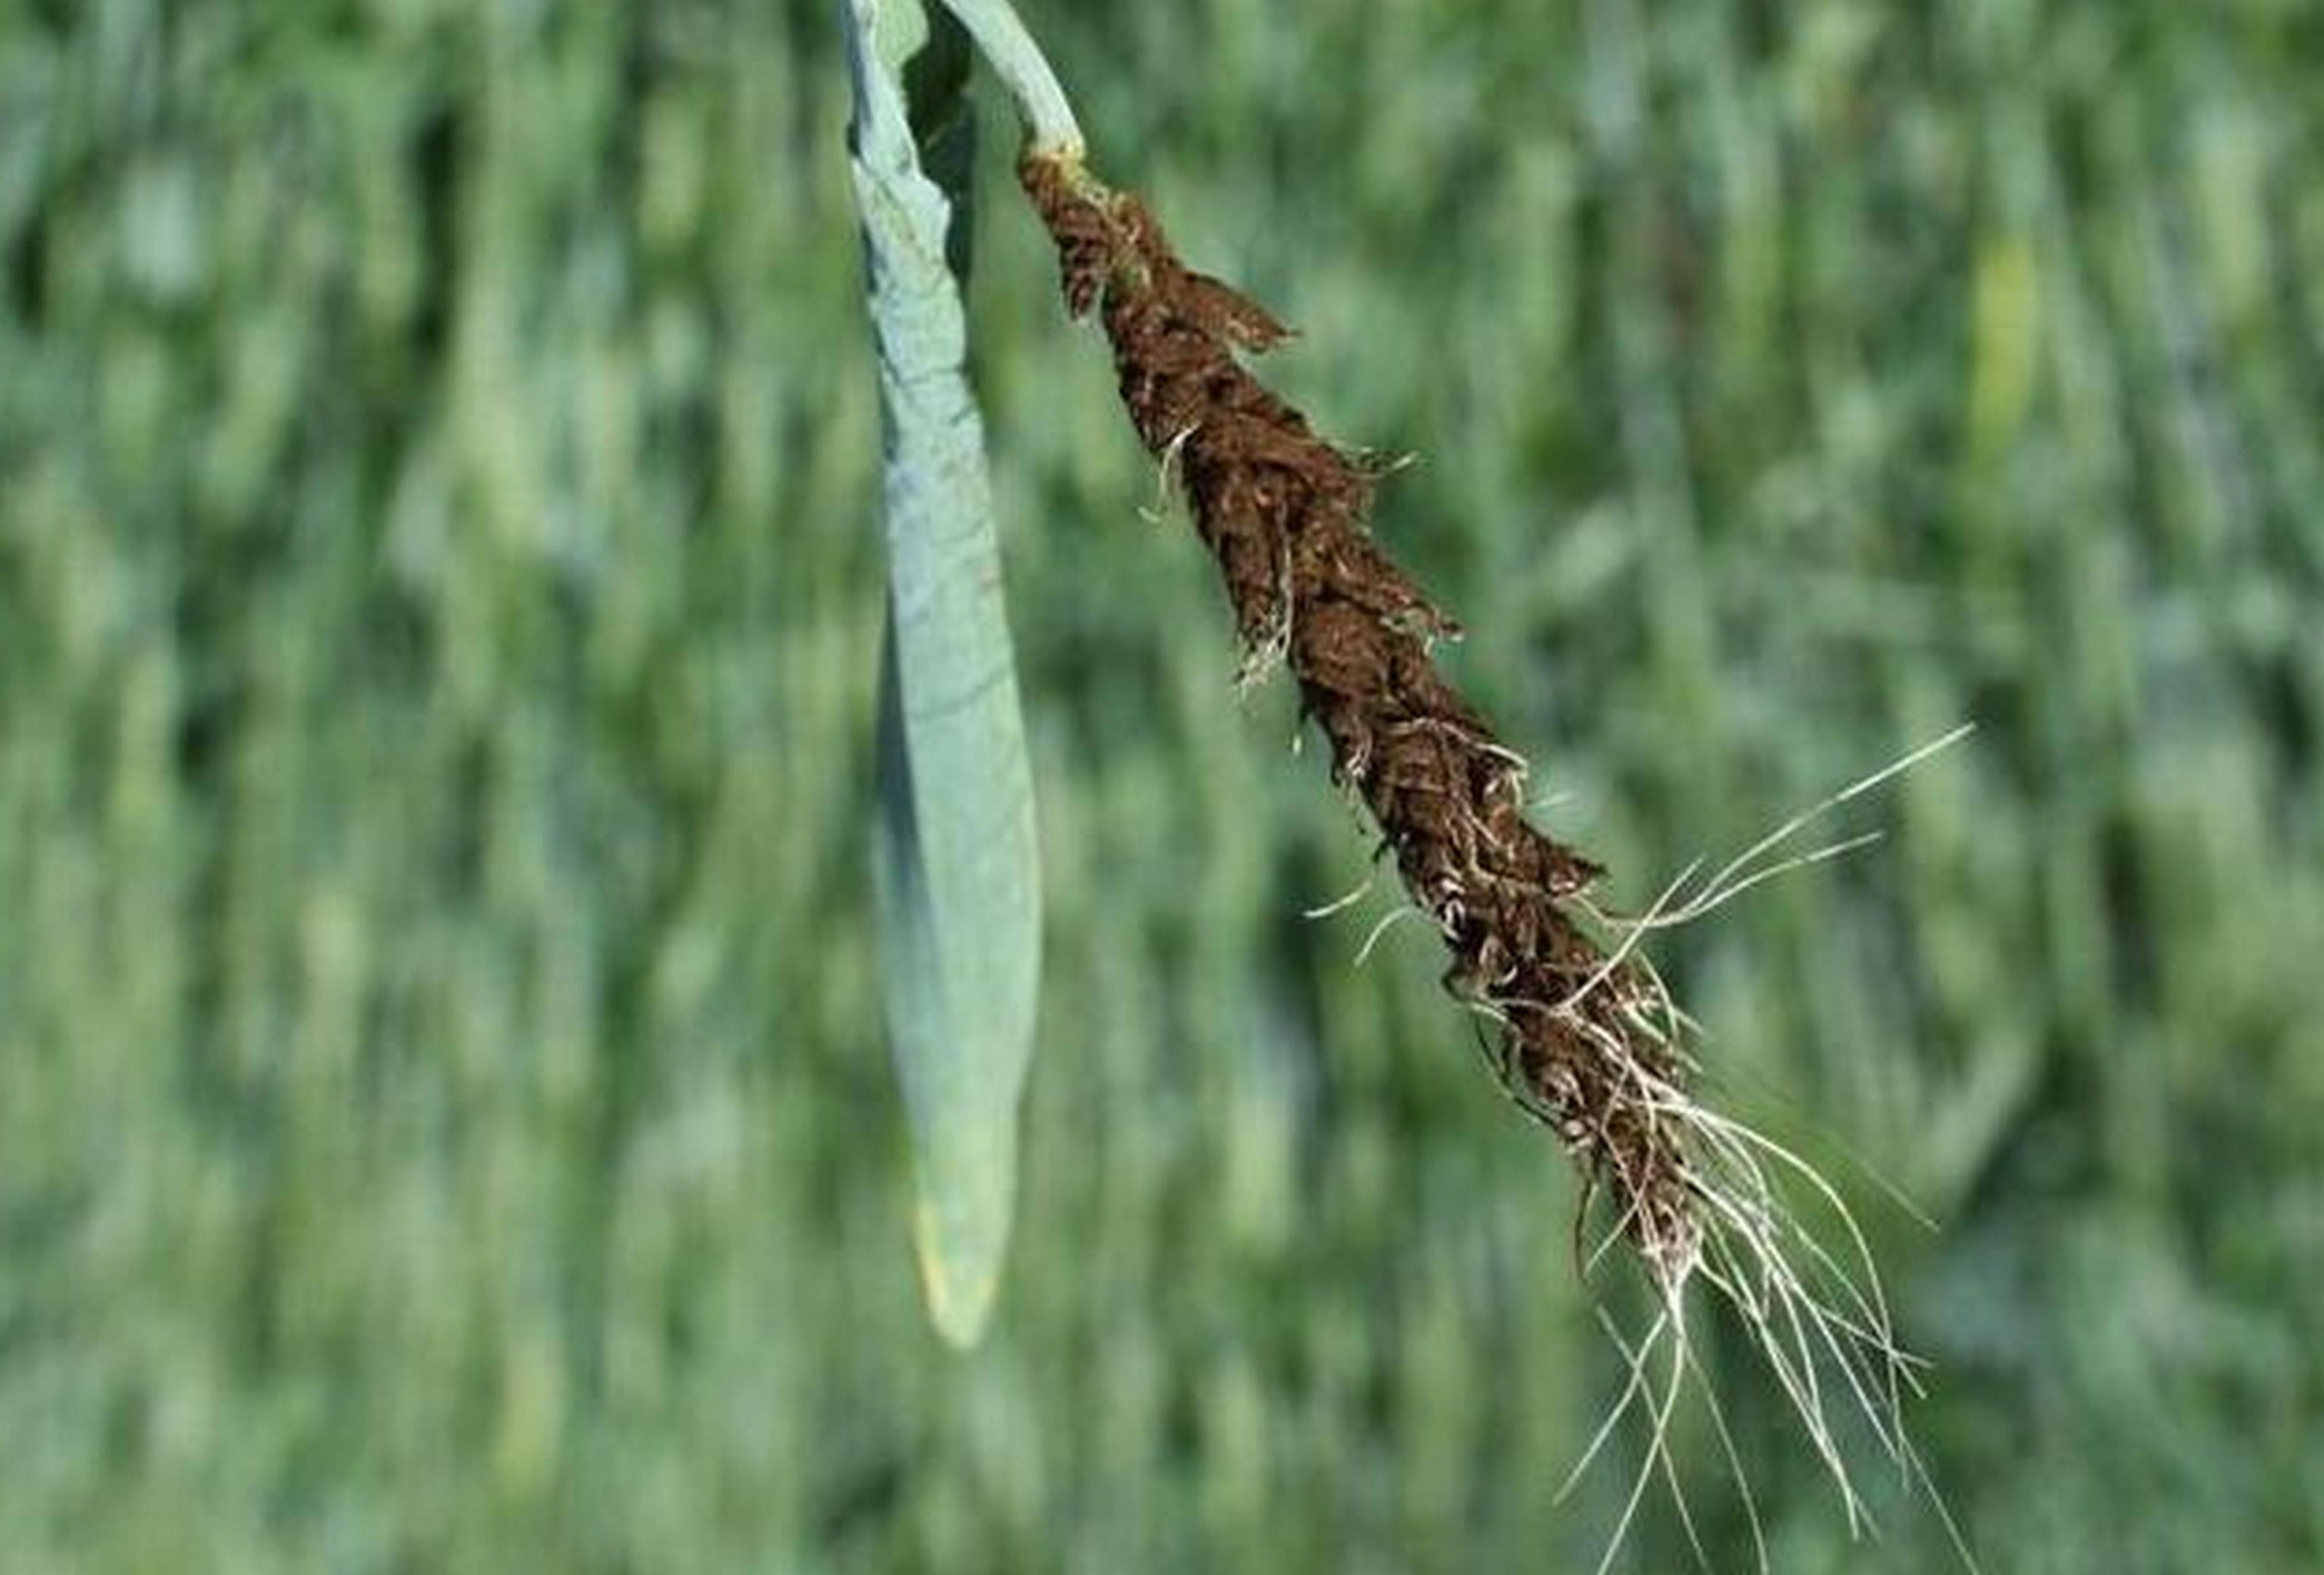Wheat Loose Smut: (1027, 163, 1761, 1246)
